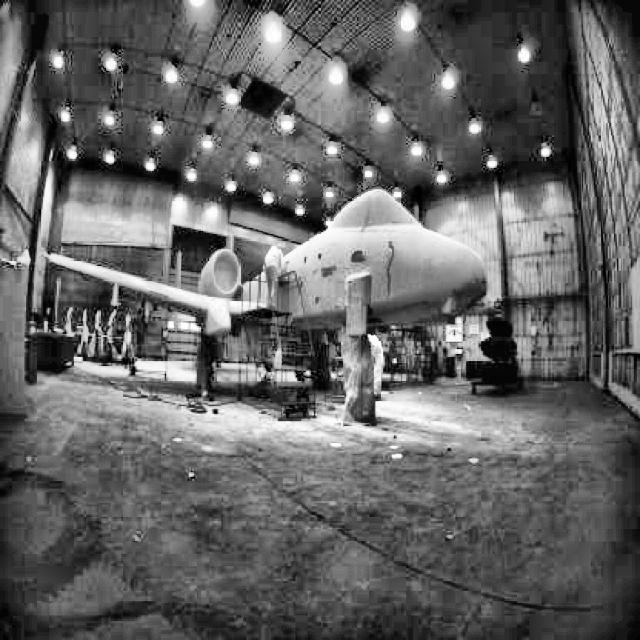A10: (42, 188, 502, 422)
